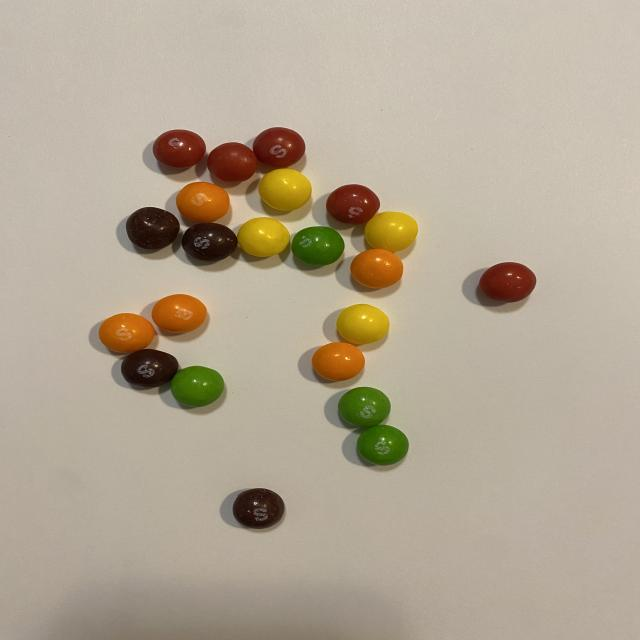smartie: (479, 262, 537, 302), (125, 207, 179, 249), (258, 168, 312, 210), (120, 349, 178, 388), (98, 313, 154, 353), (175, 181, 229, 222), (365, 211, 418, 252), (170, 366, 223, 407), (326, 184, 380, 224), (151, 294, 206, 333), (338, 387, 390, 428), (181, 223, 237, 261), (252, 127, 305, 167), (336, 304, 389, 344), (311, 342, 365, 381), (357, 425, 408, 466), (232, 489, 284, 529), (237, 217, 289, 257), (350, 249, 403, 288), (291, 226, 344, 265), (152, 129, 205, 167), (206, 142, 257, 181)
